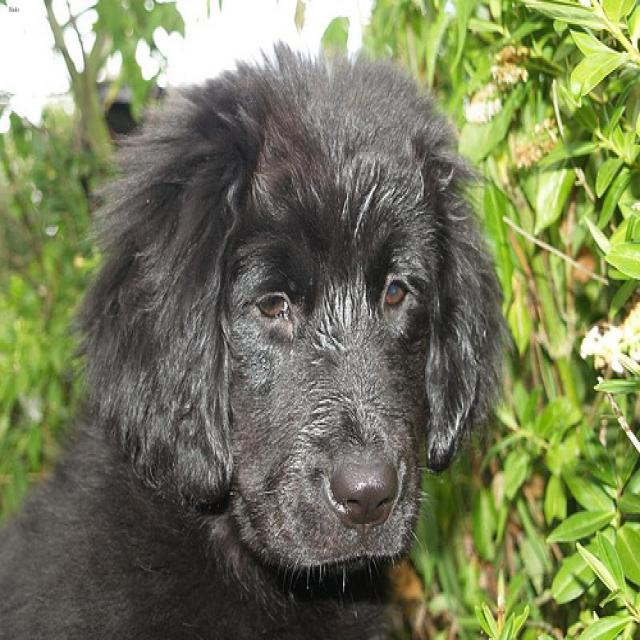dog-newfoundland: (1, 36, 508, 637)
